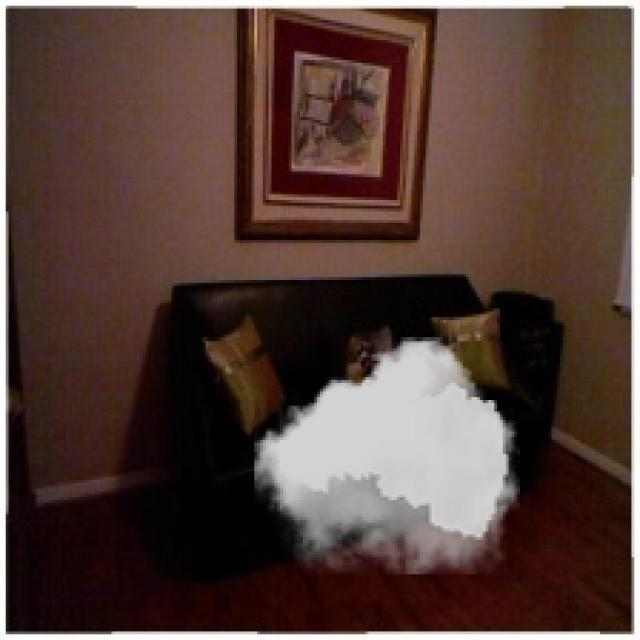smoke: (254, 337, 520, 574)
